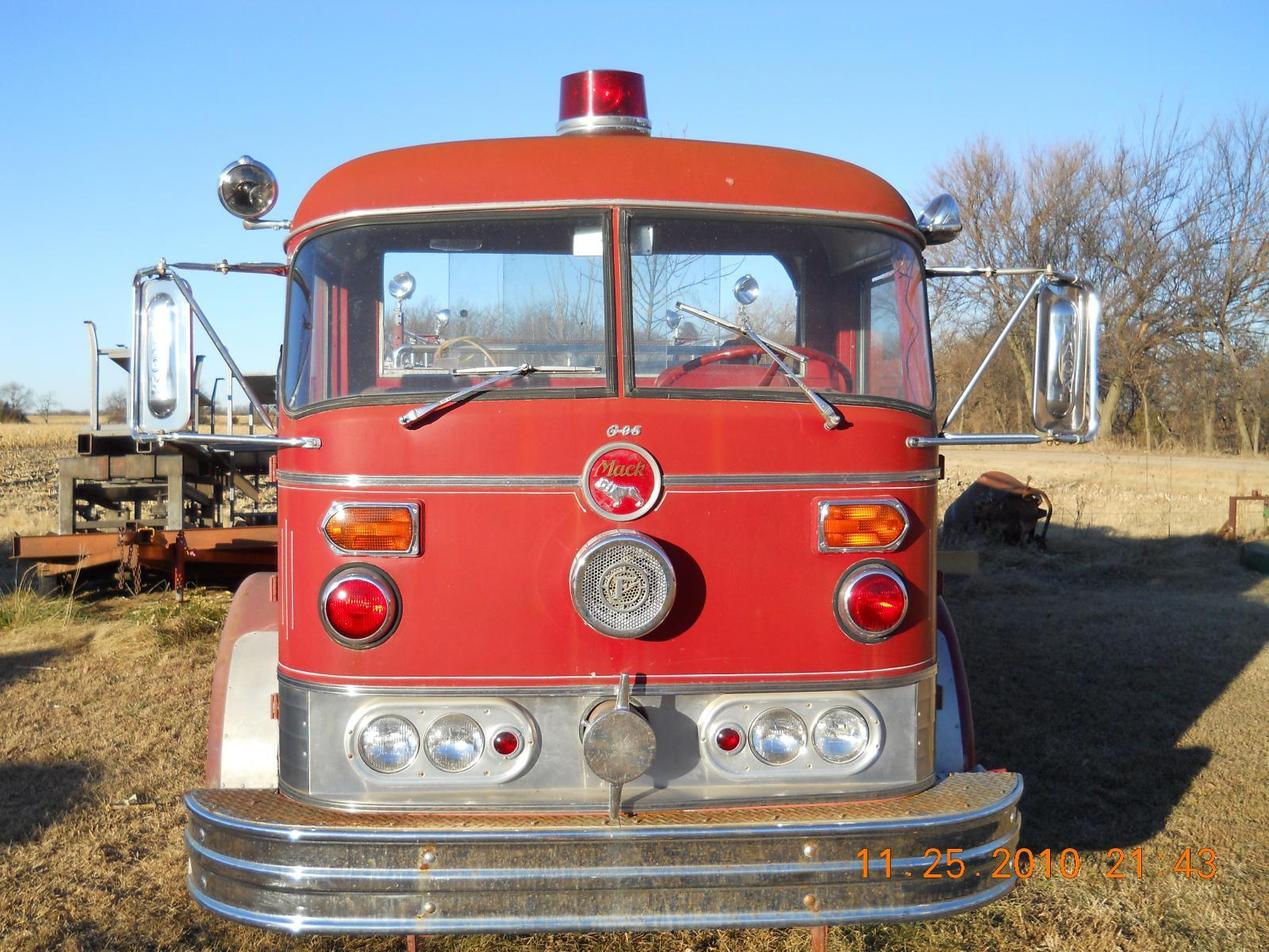Fire-engine: (15, 66, 1103, 947)
